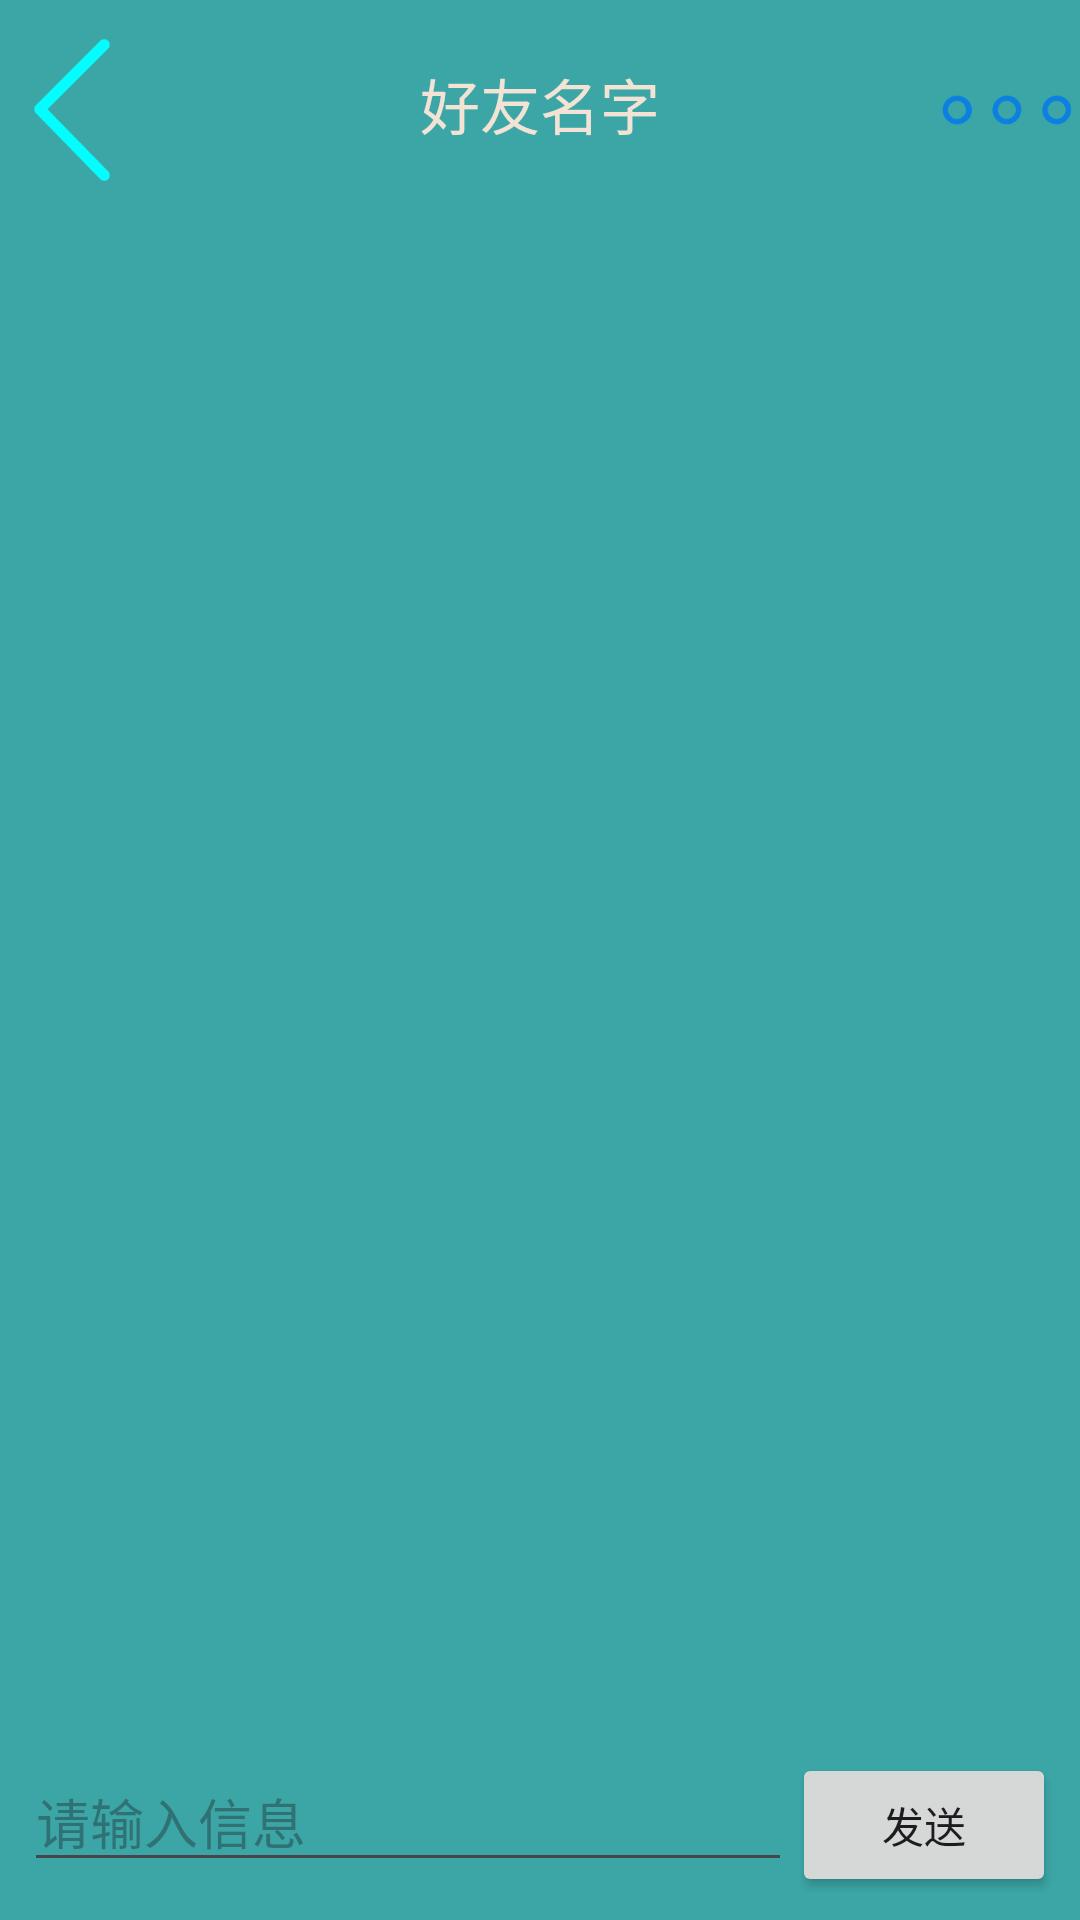

Where to tap for icons on this 1080 x 1920 app screen, as (x=x, y=y):
back: (x=72, y=110)
更多: (x=1007, y=110)
